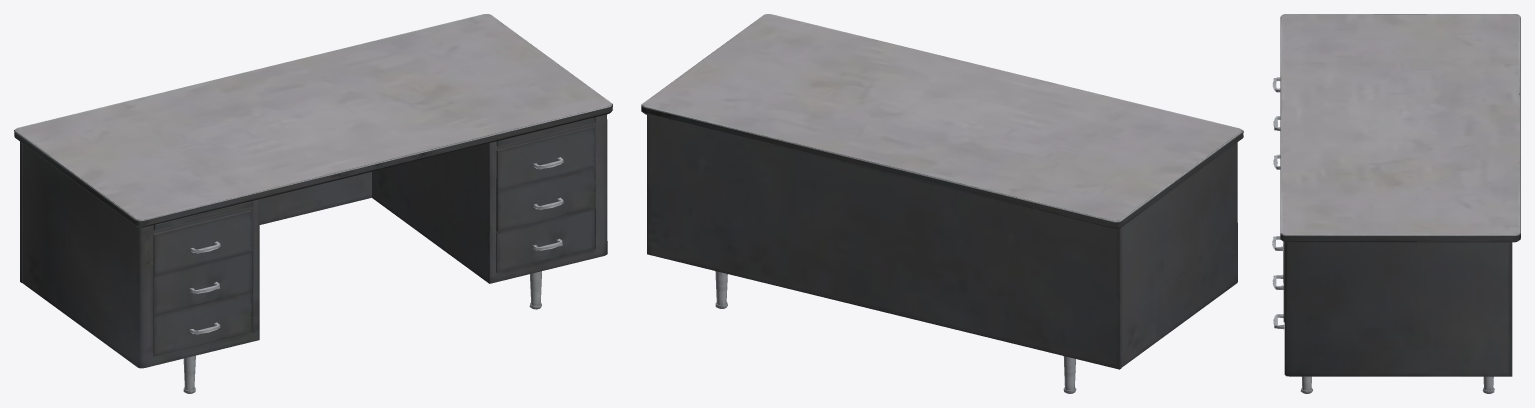
Rendered from metal_office_desk.glb.
The picture shows the model from 3 angles, left to right: view 1: azimuth 30°, elevation 25°; view 2: azimuth 150°, elevation 25°; view 3: azimuth 270°, elevation 25°; orthographic projection. The views are drawn at different scales.
Visible parts, largest first — view 1: metal_office_desk, metal_office_desk_drawer_04, metal_office_desk_drawer_01, metal_office_desk_drawer_02, metal_office_desk_drawer_06, metal_office_desk_drawer_03, metal_office_desk_drawer_05, metal_office_desk_tray_01, metal_office_desk_tray_02; view 2: metal_office_desk; view 3: metal_office_desk.
Part boxes in pixels (x1,y1,x2,y2): metal_office_desk: [14, 14, 612, 393]; metal_office_desk_drawer_04: [153, 210, 252, 275]; metal_office_desk_drawer_01: [496, 126, 595, 191]; metal_office_desk_drawer_02: [496, 167, 595, 231]; metal_office_desk_drawer_06: [153, 292, 252, 356]; metal_office_desk_drawer_03: [496, 208, 594, 272]; metal_office_desk_drawer_05: [153, 252, 252, 315]; metal_office_desk_tray_01: [153, 201, 252, 230]; metal_office_desk_tray_02: [496, 117, 594, 146]; metal_office_desk: [641, 14, 1243, 393]; metal_office_desk: [1280, 14, 1520, 393].
Bounding box in the file's own units: 2 × 0.7874 × 0.9481.
Materials: 1 (1 with a texture image).
